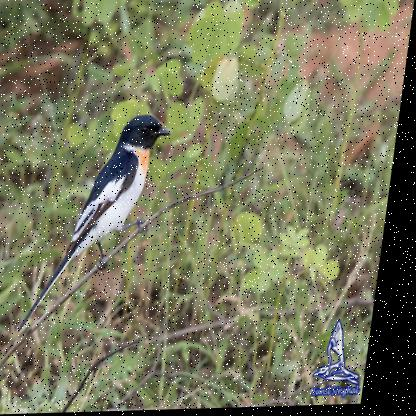Burung: (26, 114, 176, 333)
